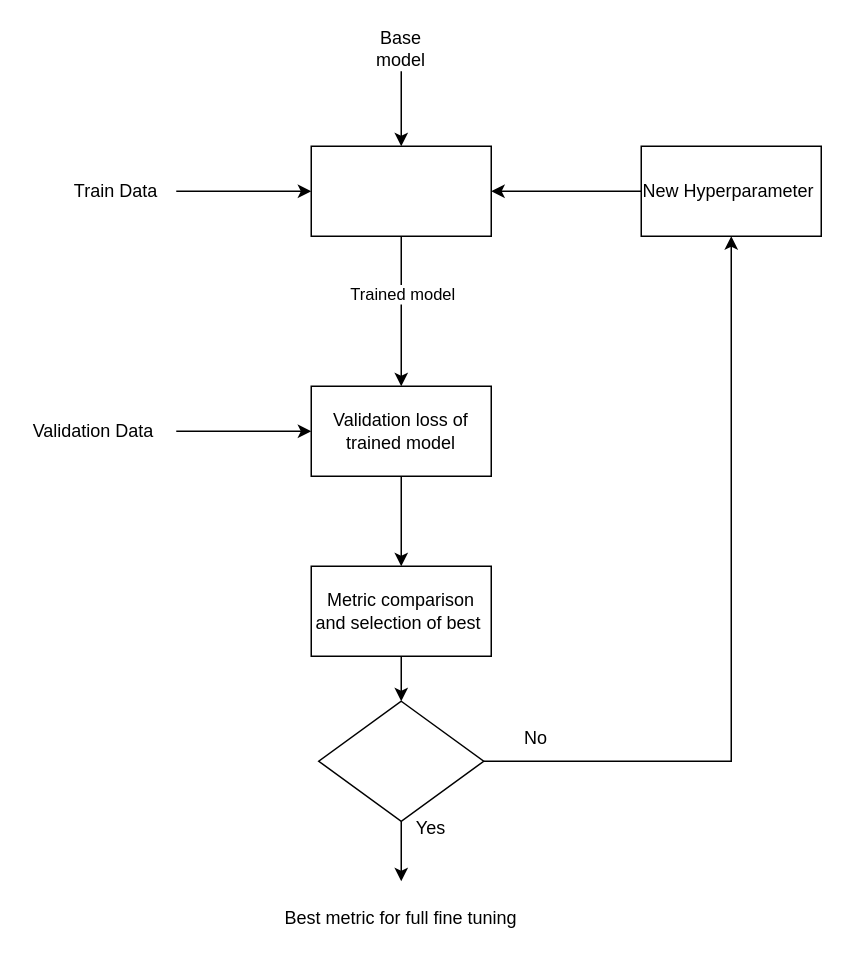
Image size: 848x966. Some labels were removed from this diagram. The shapes that lost their labels are listed below. From the top down, each one's centre as x and y in pixels, then its label:
At point 400,190: "Model training".
At point 400,760: "Is no. of trail completed".
